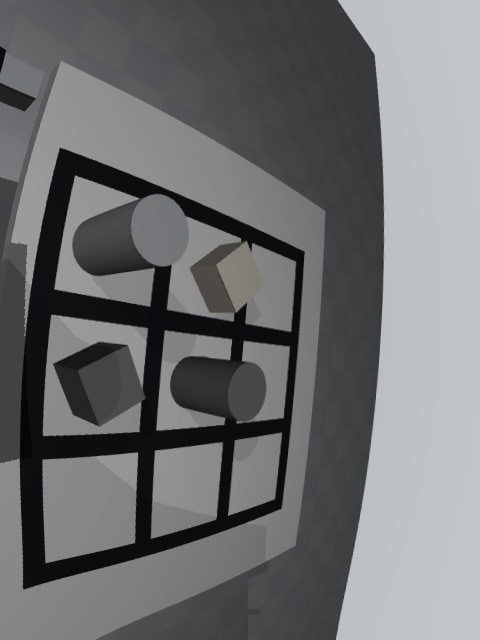can: (72, 194, 189, 276)
cube: (53, 342, 146, 427)
cylinder: (170, 356, 266, 421)
foam: (190, 241, 264, 313)
